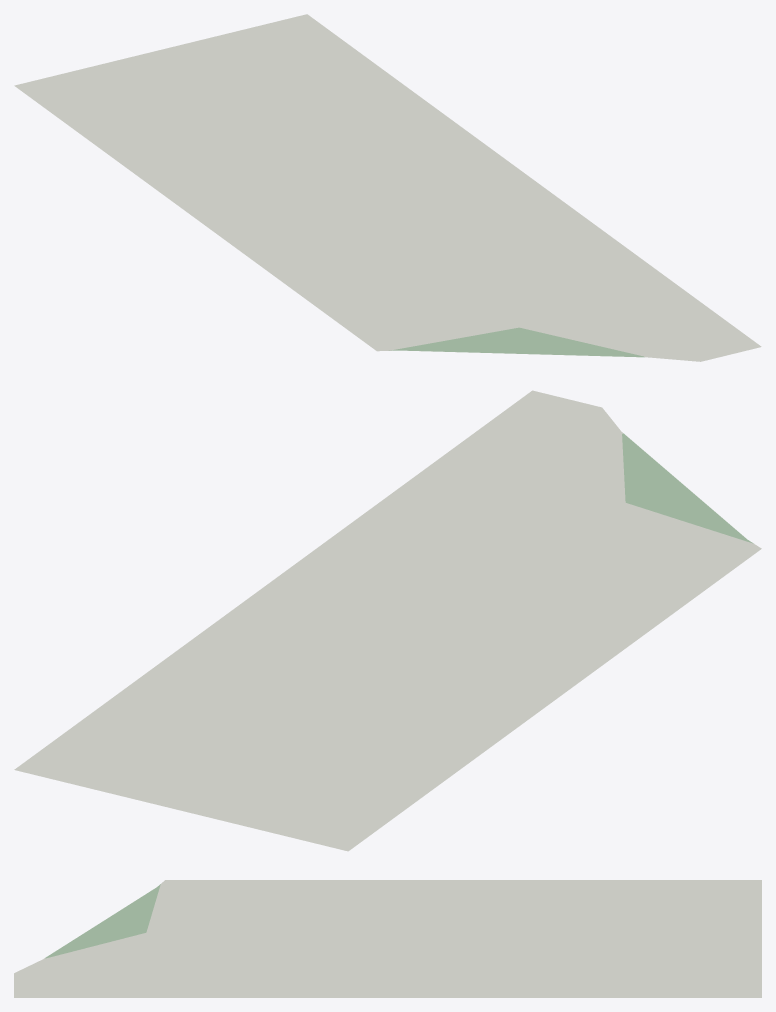
The picture shows the model from 3 angles, top to bottom: view 1: azimuth 30°, elevation 25°; view 2: azimuth 150°, elevation 25°; view 3: azimuth 270°, elevation 25°; orthographic projection. The views are drawn at different scales.
Visible parts, largest first — view 1: city; view 2: city; view 3: city.
Boxes of the visible parts, <box> form: city: <box>14,14,761,361</box>; city: <box>14,390,761,851</box>; city: <box>14,880,761,997</box>.
Size of the model in its own units: 186 by 0.025 by 500.
